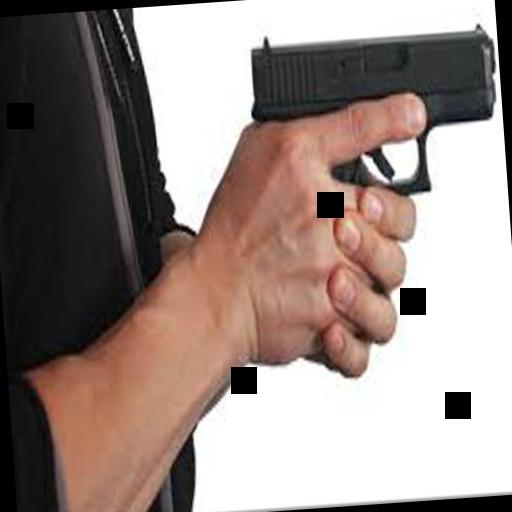Handgun: (248, 14, 510, 370)
